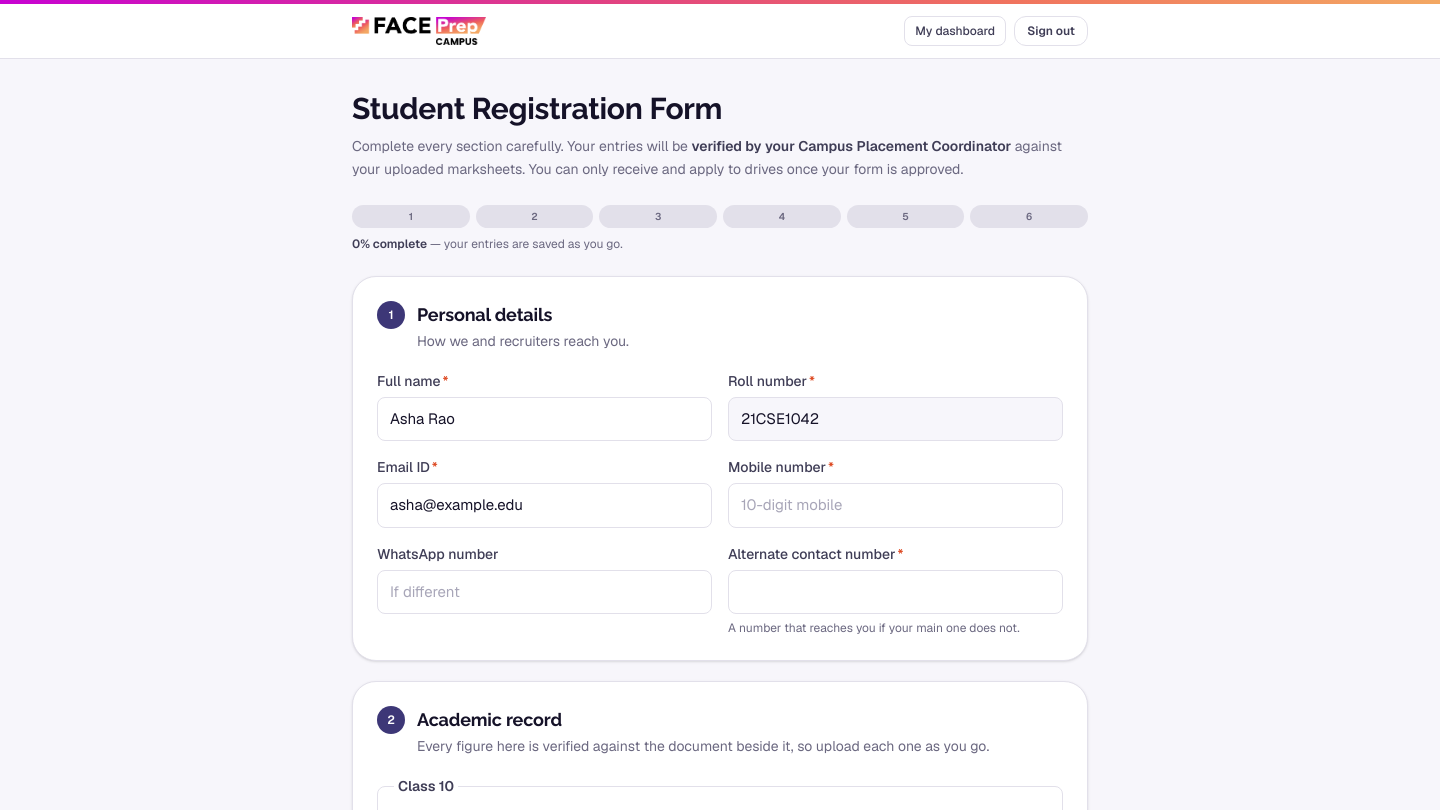
SrfPage — progress and navigation › says how far through the student is
Type "9876543210" into the field labelled "Mobile number*".
click(896, 505); type("9876543210")  # box [728,483,1063,528]
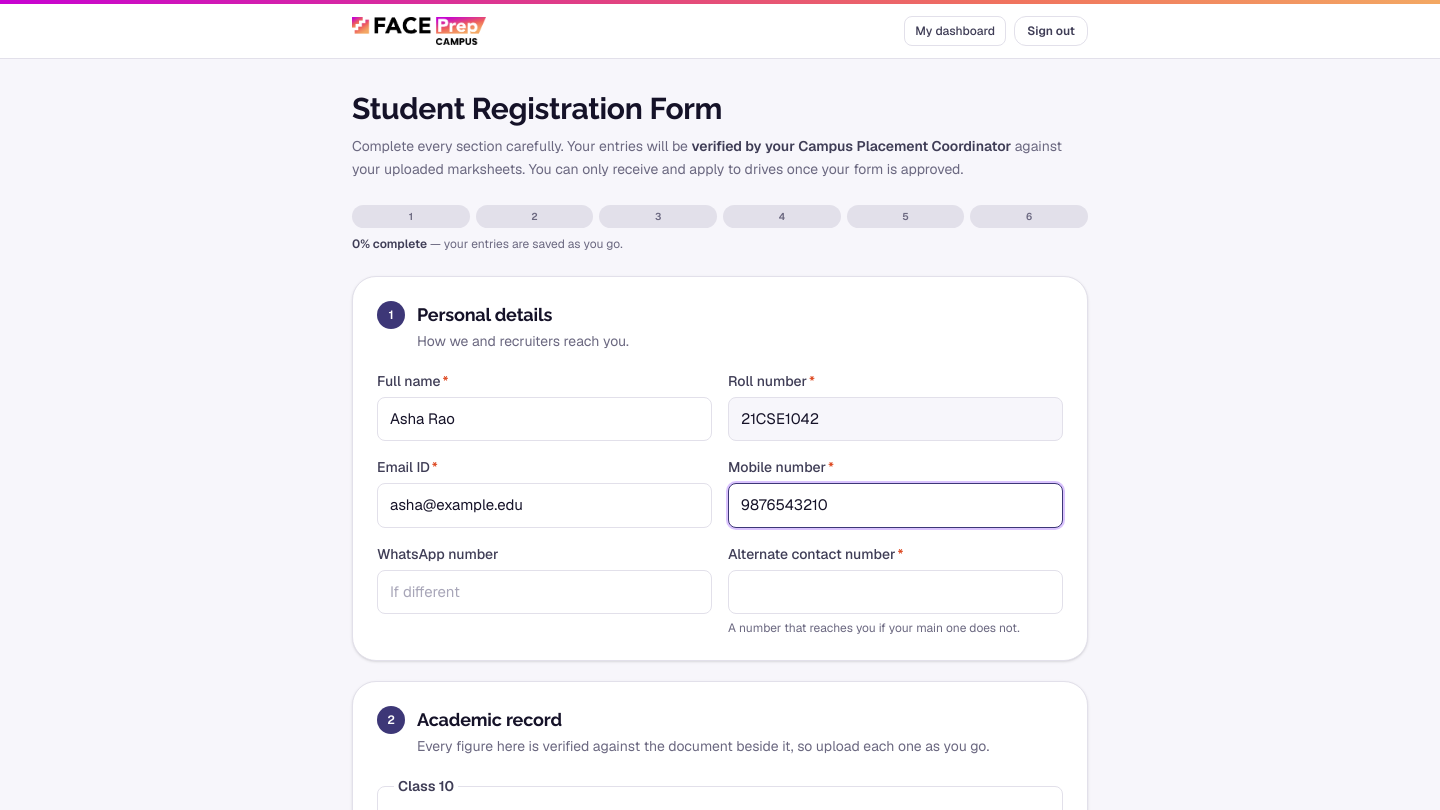
Type "9876500000" into the field labelled "Alternate contact number*".
click(896, 592); type("9876500000")  # box [728,570,1063,614]
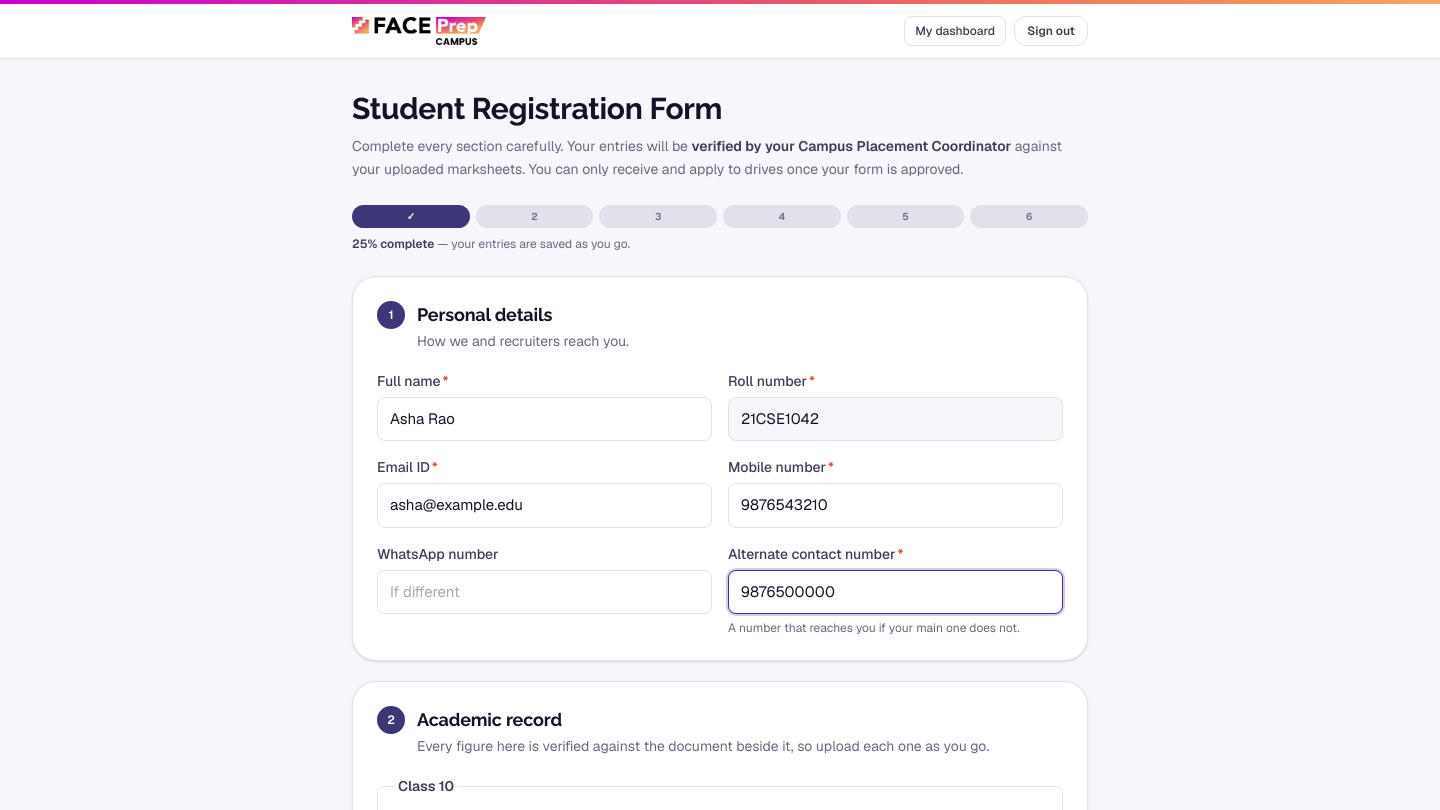
Result: the text "25% complete" is shown at [352,236,434,252]
